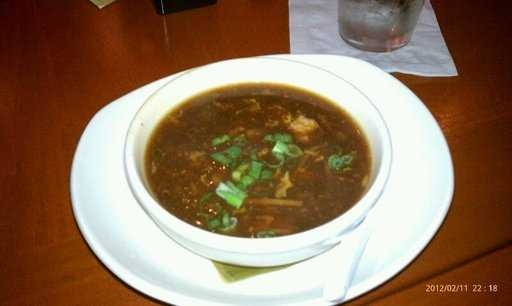soup: (133, 76, 378, 246)
